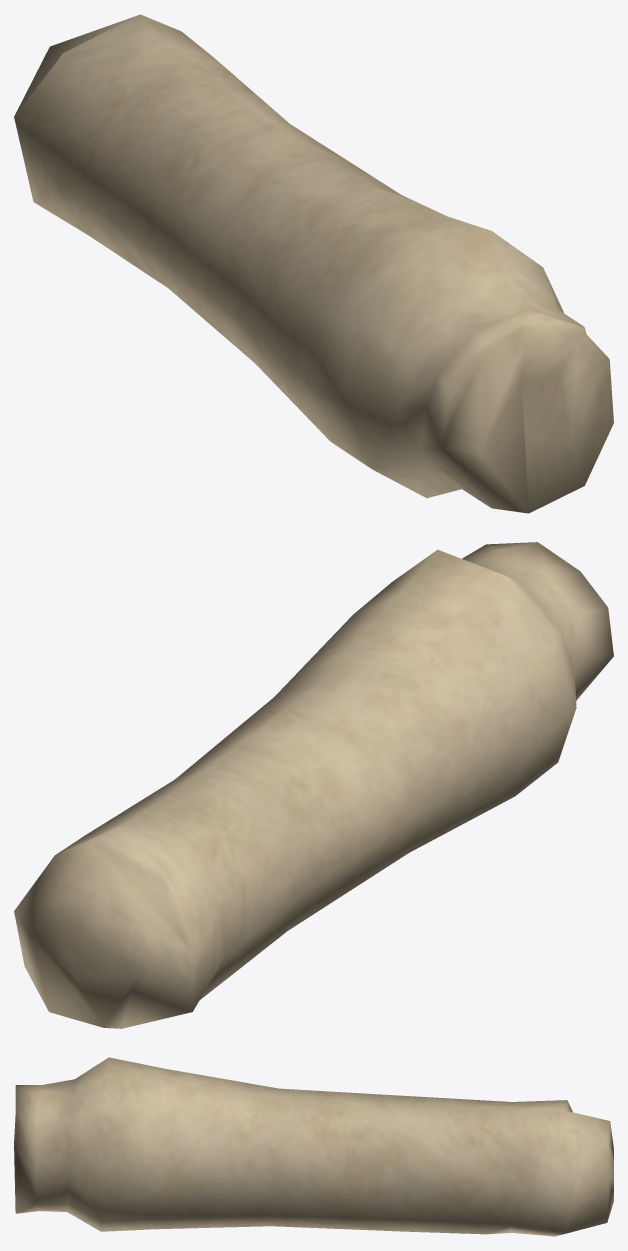
Rendered from Caudal_Vertebrae18.glb.
The picture shows the model from 3 angles, top to bottom: view 1: azimuth 30°, elevation 25°; view 2: azimuth 150°, elevation 25°; view 3: azimuth 270°, elevation 25°; orthographic projection. The views are drawn at different scales.
Visible parts, largest first — view 1: Caudal_Vertebrae_37:Group40063; view 2: Caudal_Vertebrae_37:Group40063; view 3: Caudal_Vertebrae_37:Group40063.
Part boxes in pixels (box(x1,y1,x2,y2)): Caudal_Vertebrae_37:Group40063: box(14, 14, 613, 513); Caudal_Vertebrae_37:Group40063: box(14, 542, 613, 1028); Caudal_Vertebrae_37:Group40063: box(14, 1057, 613, 1236).
Size of the model in its own units: 2.4 by 2.47 by 8.15.
Materials: 1 (1 with a texture image).
